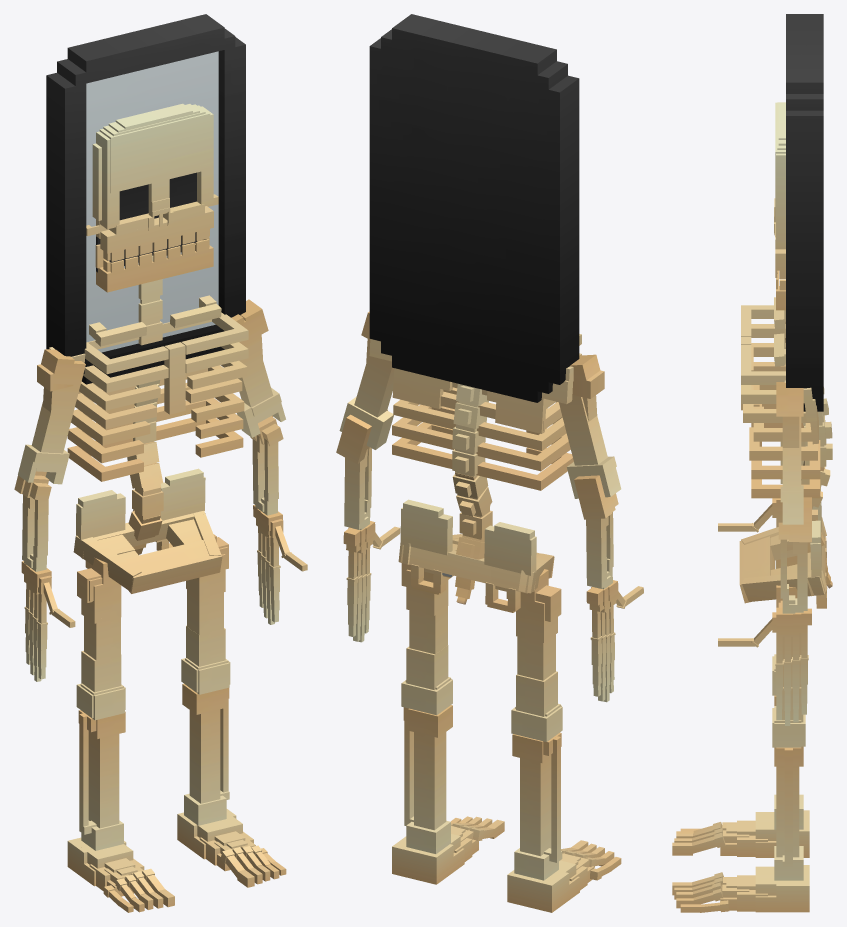
The model's file is Los_Hotspot.fbx.
3 views of the same model, side by side, from view 1: azimuth 30°, elevation 25°; view 2: azimuth 150°, elevation 25°; view 3: azimuth 270°, elevation 25° (orthographic). The views are drawn at different scales.
Parts seen in each view (by area): view 1: Object; view 2: Object; view 3: Object.
Boxes of the visible parts, x1,y1,x2,y2 form: Object: (14,14,307,912); Object: (336,14,643,912); Object: (672,14,832,912).
Size of the model in its own units: 1.25 by 3.76 by 0.6616.
